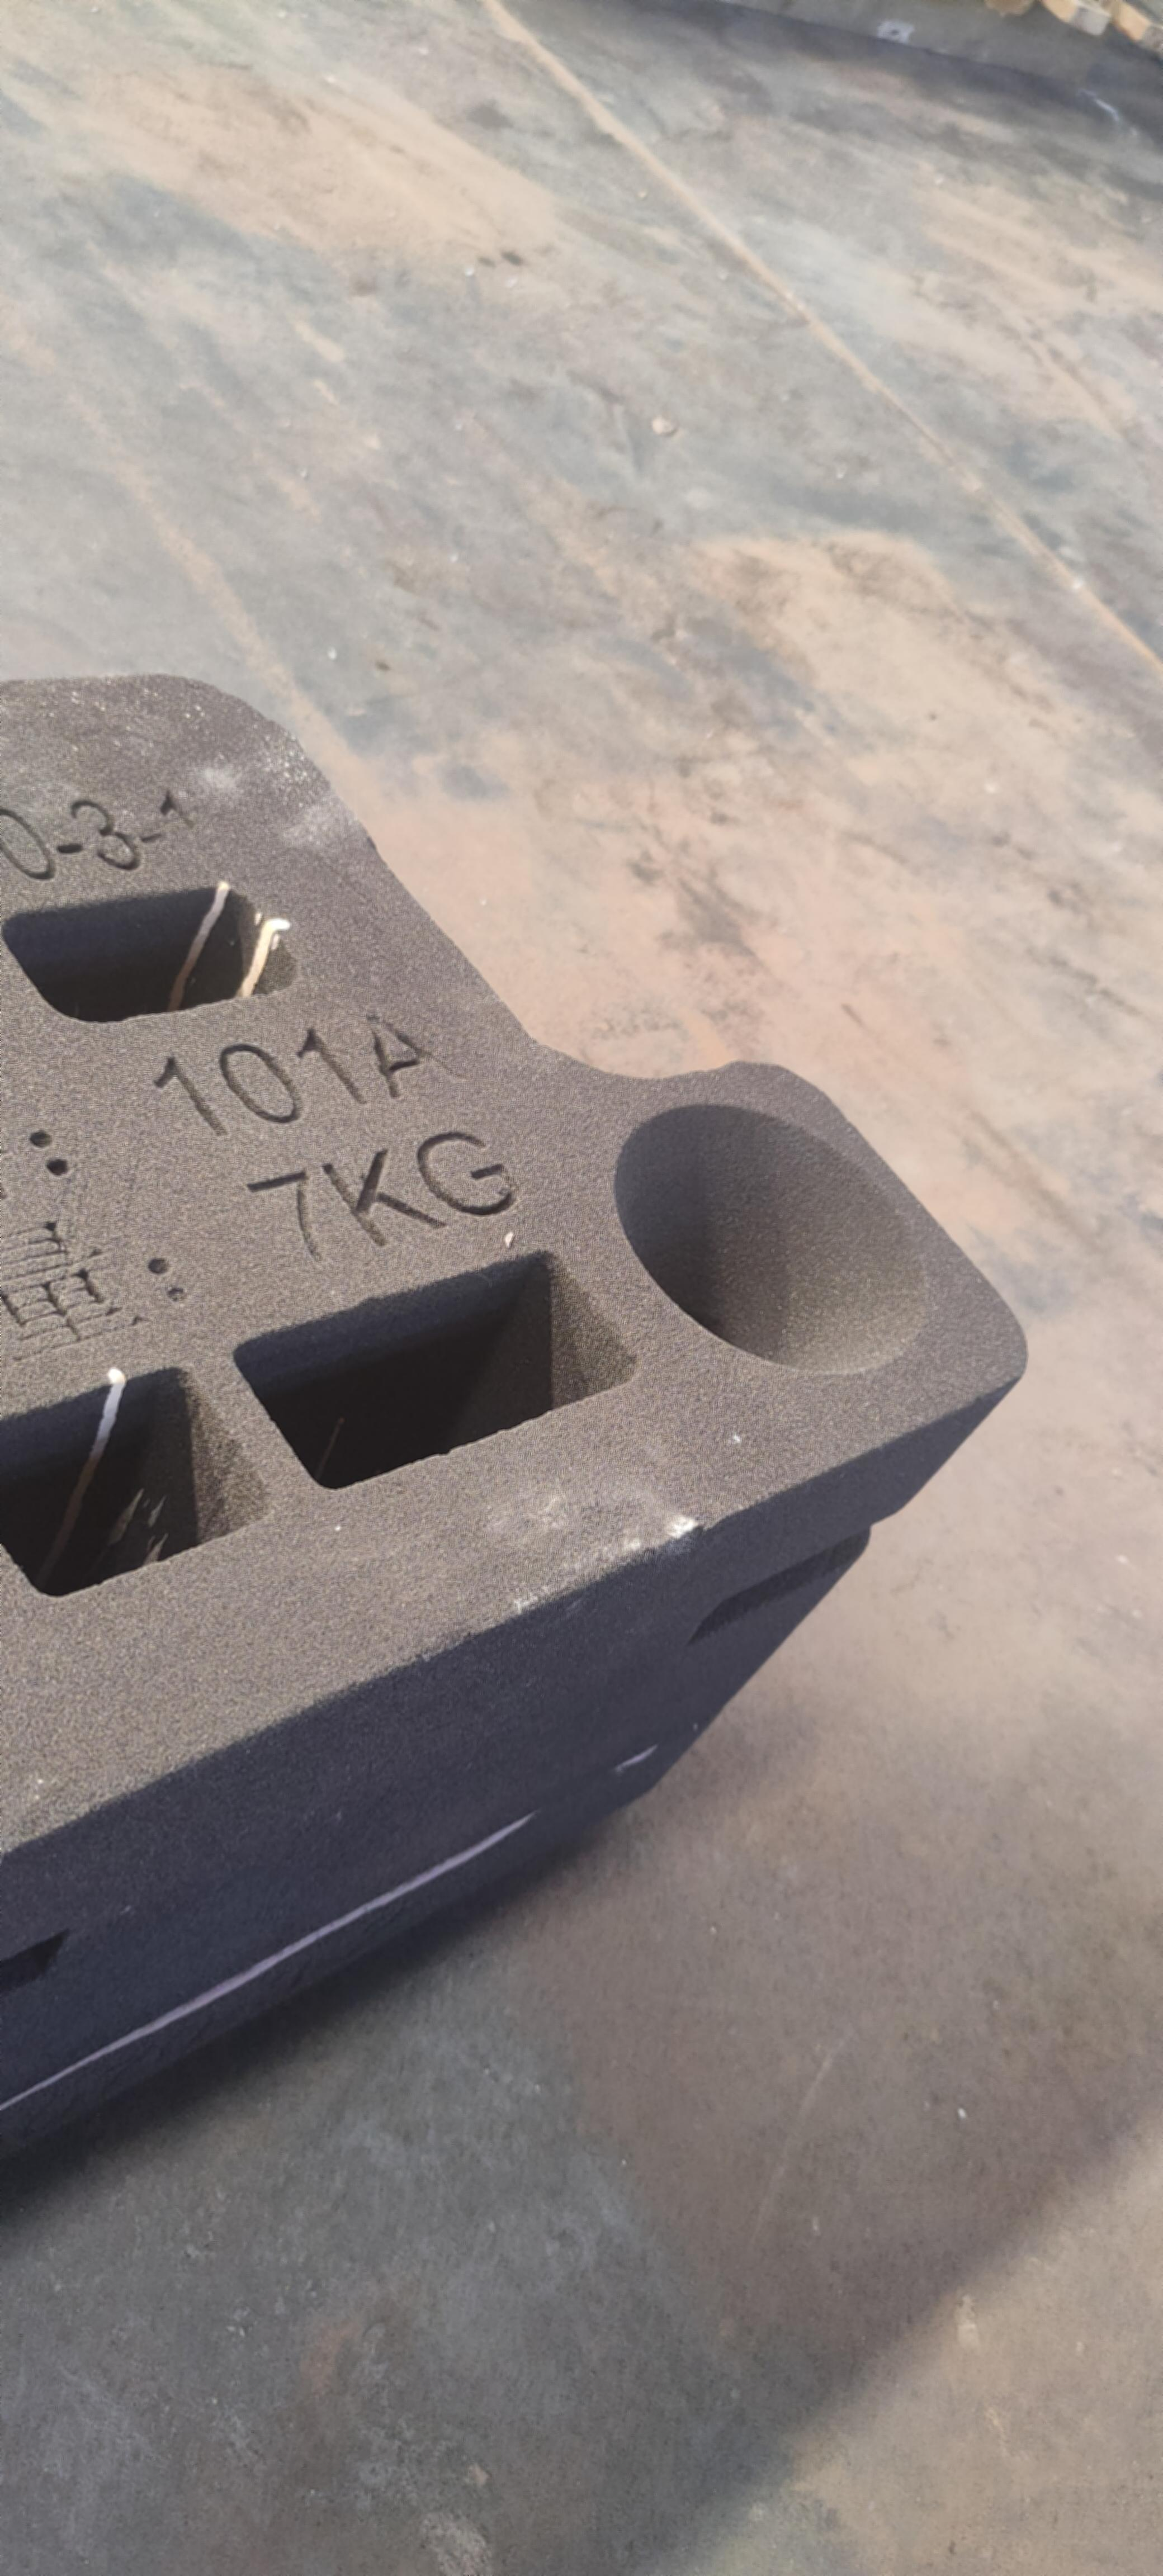pouring hole: (616, 1101, 930, 1372)
